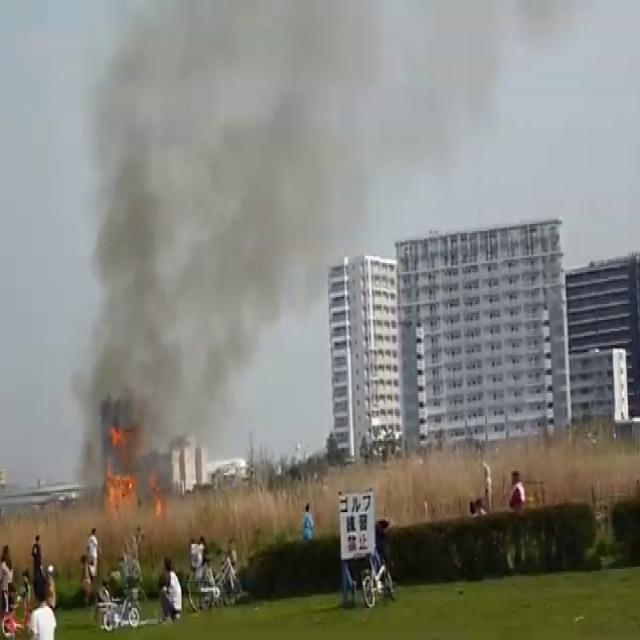Fire: (98, 414, 144, 522)
Smoke: (64, 3, 458, 526)
